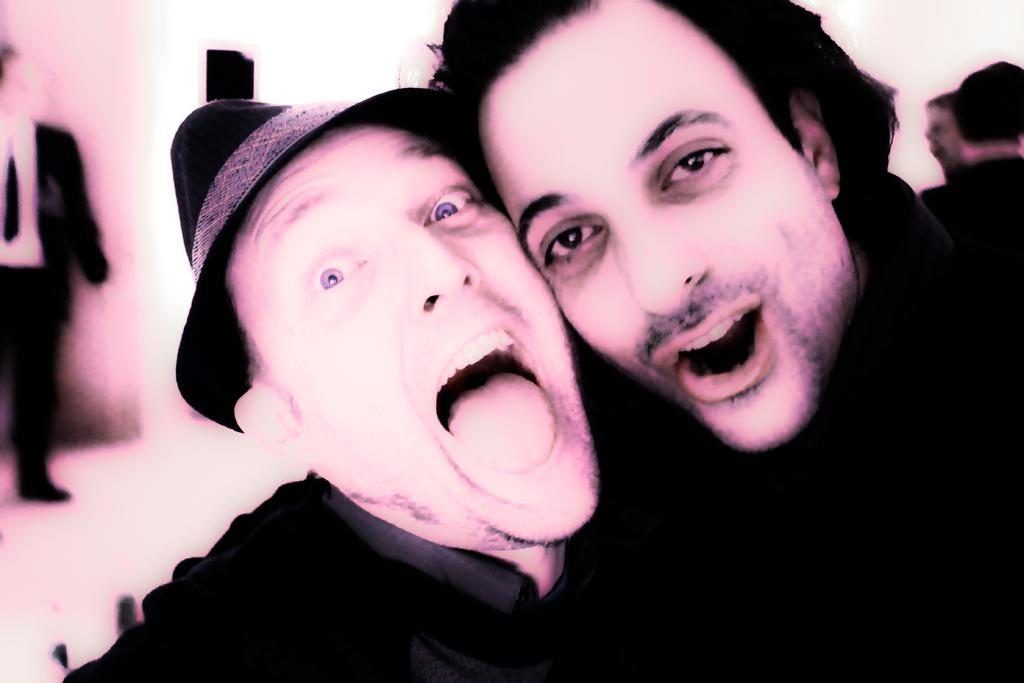Hat: (166, 83, 469, 432)
